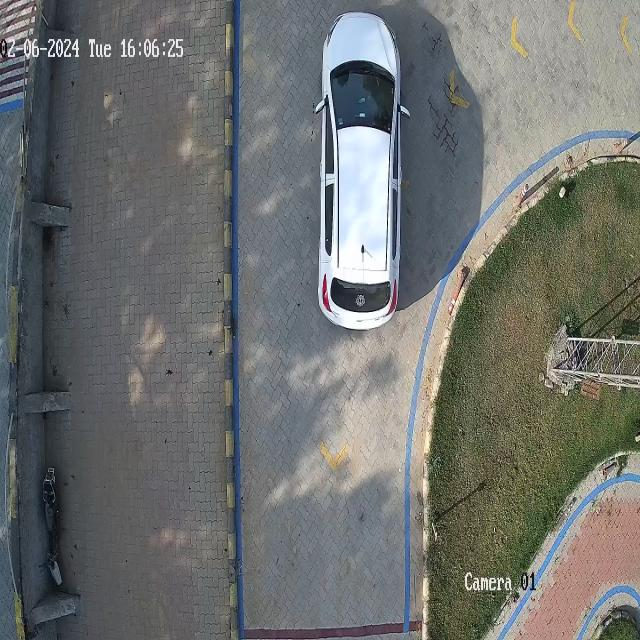car: (315, 11, 409, 331)
